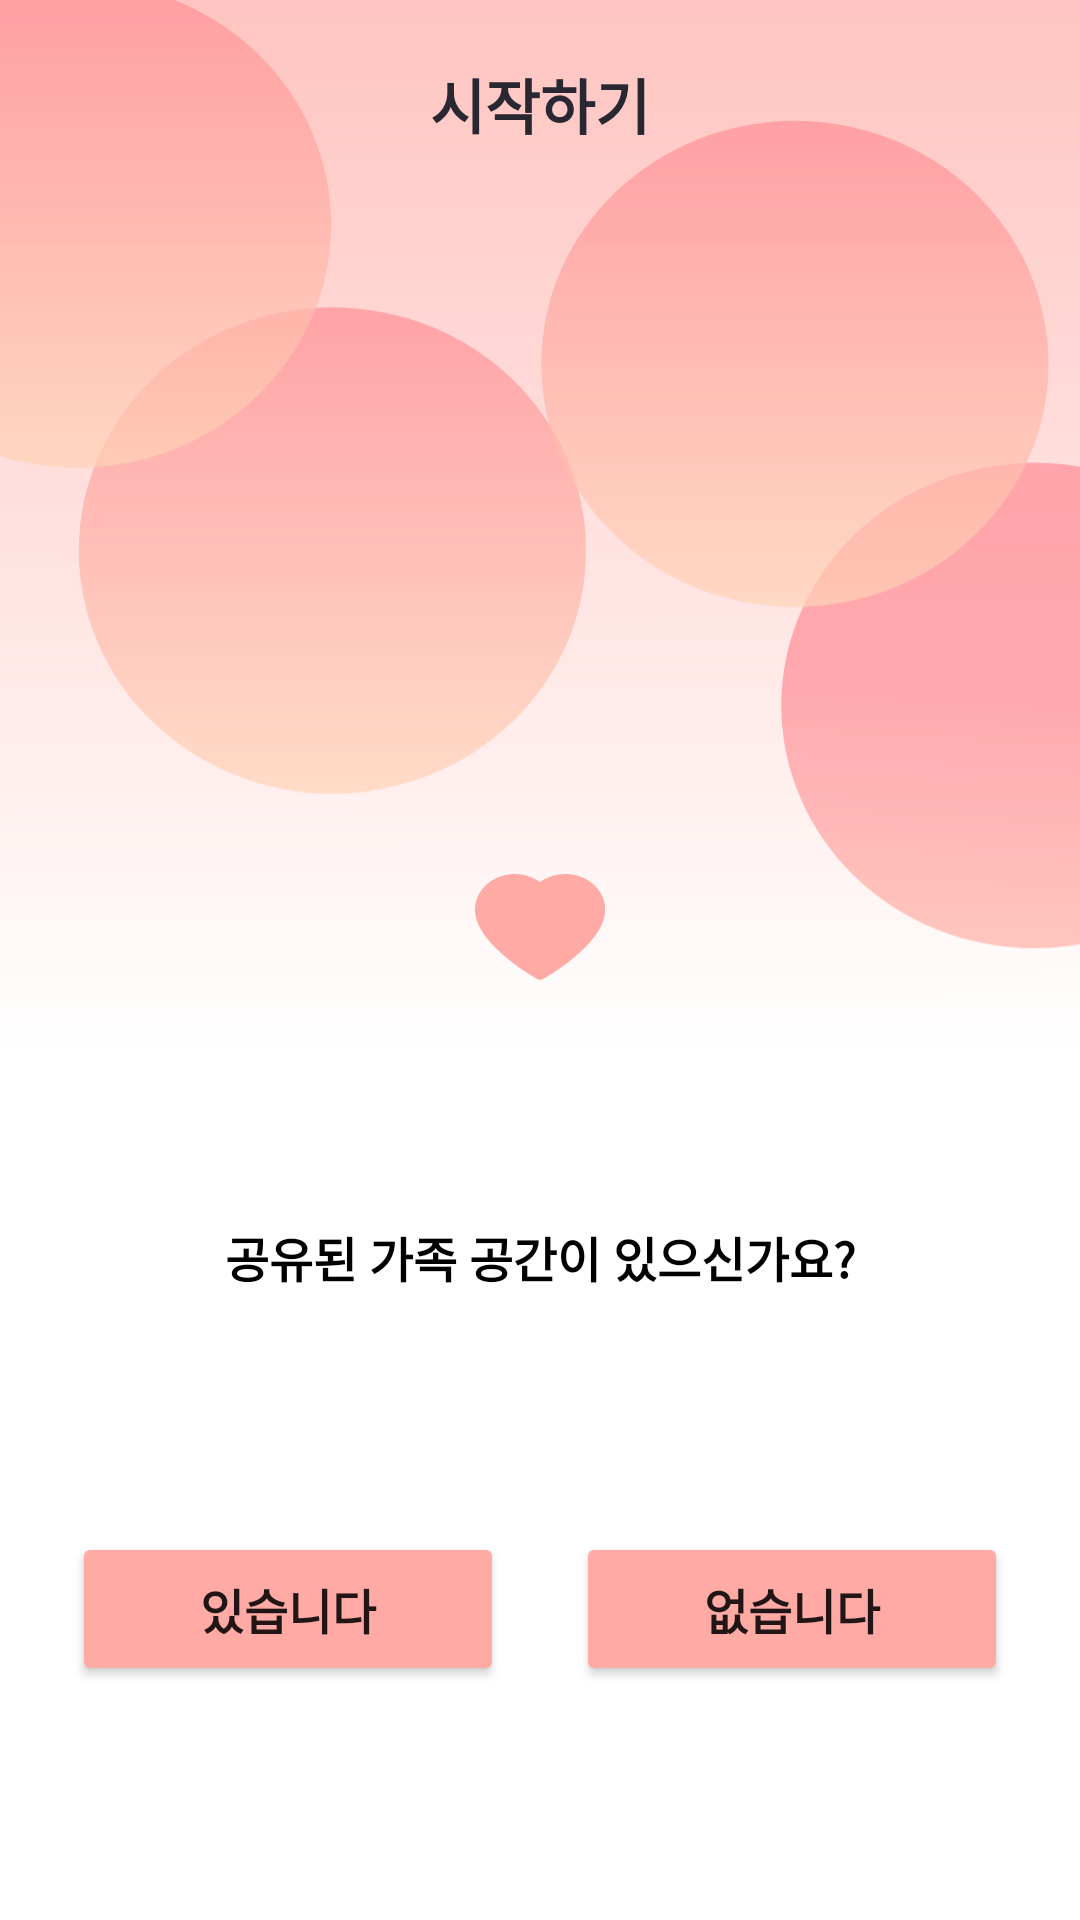

Screen size 1080 x 1920. Icon name, then its box in pixels as detection(x1, y1, x2, y2):
heart: detection(475, 874, 606, 980)
